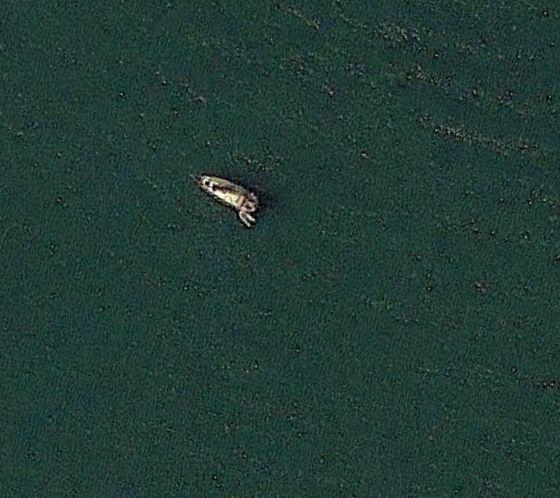Ships: (183, 160, 303, 249)
